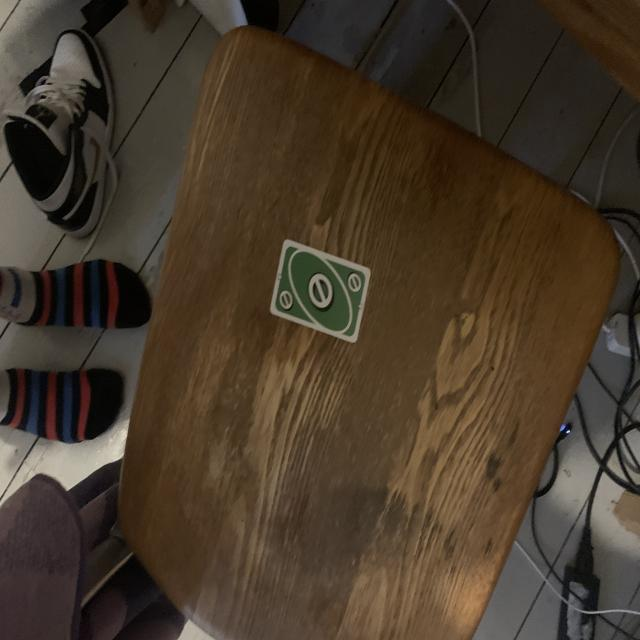lgreenskip-20: (345, 270, 363, 296)
